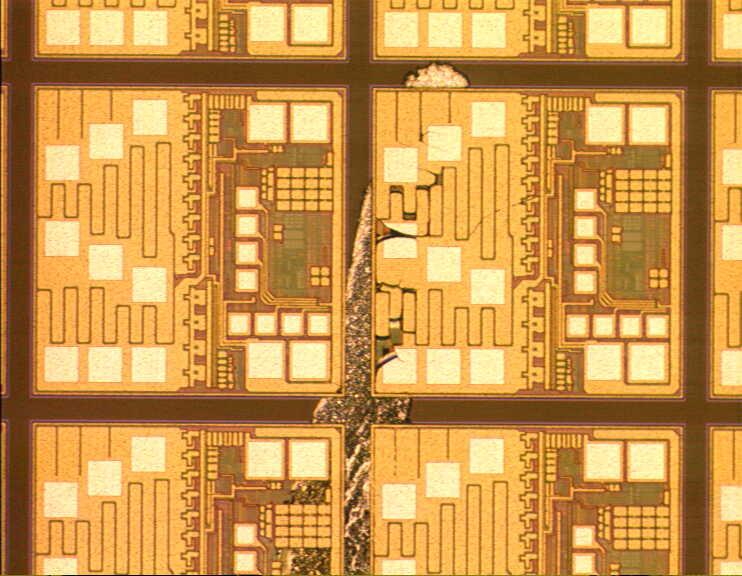BLOCK ETCH: (288, 62, 473, 576)
